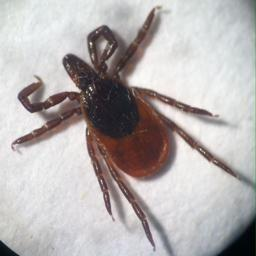Ixodes scapularis: (18, 12, 235, 232)
